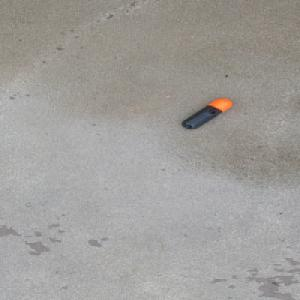PlasticPart: (180, 98, 233, 130)
